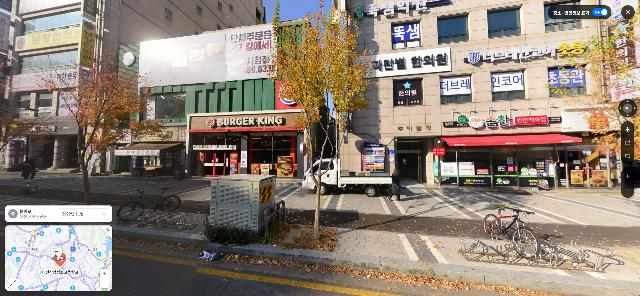ginkgo: (251, 0, 380, 240)
other: (30, 48, 171, 209), (563, 9, 639, 168)
